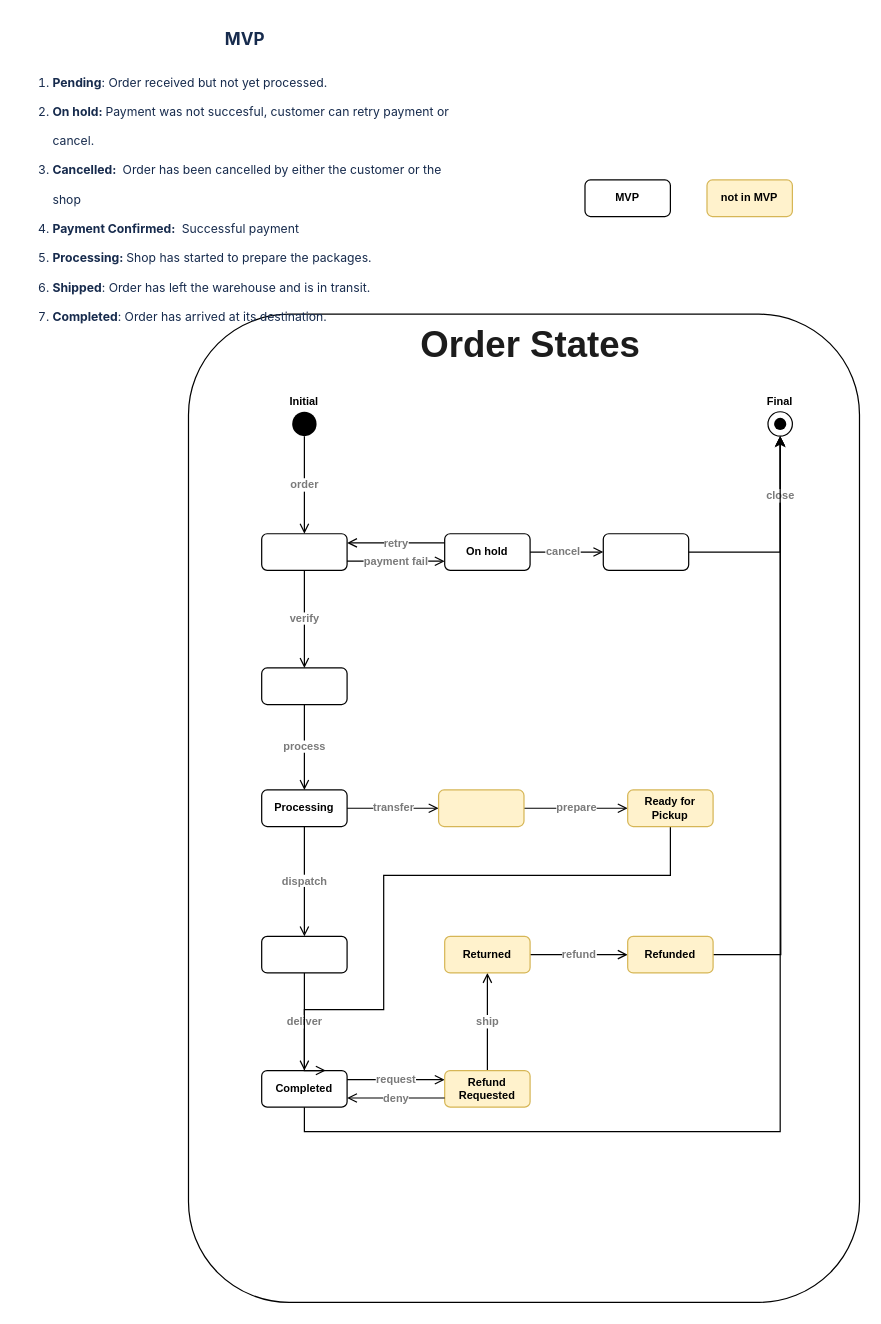
The diagram is 881 pixels wide and 1324 high, and some of its shapes have lost their labels. The shapes that lost their labels are listed below. From the top down, each one's centre as x and y in pixels, then its label:
pixel 303 551: Pending
pixel 645 551: Cancelled
pixel 303 686: Payment Confirmed
pixel 480 808: Shipped to Store
pixel 303 954: Shipped
